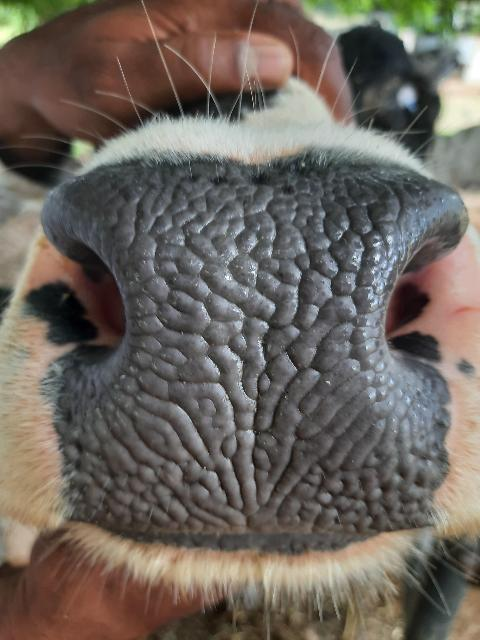Muzzle: (83, 184, 416, 518)
